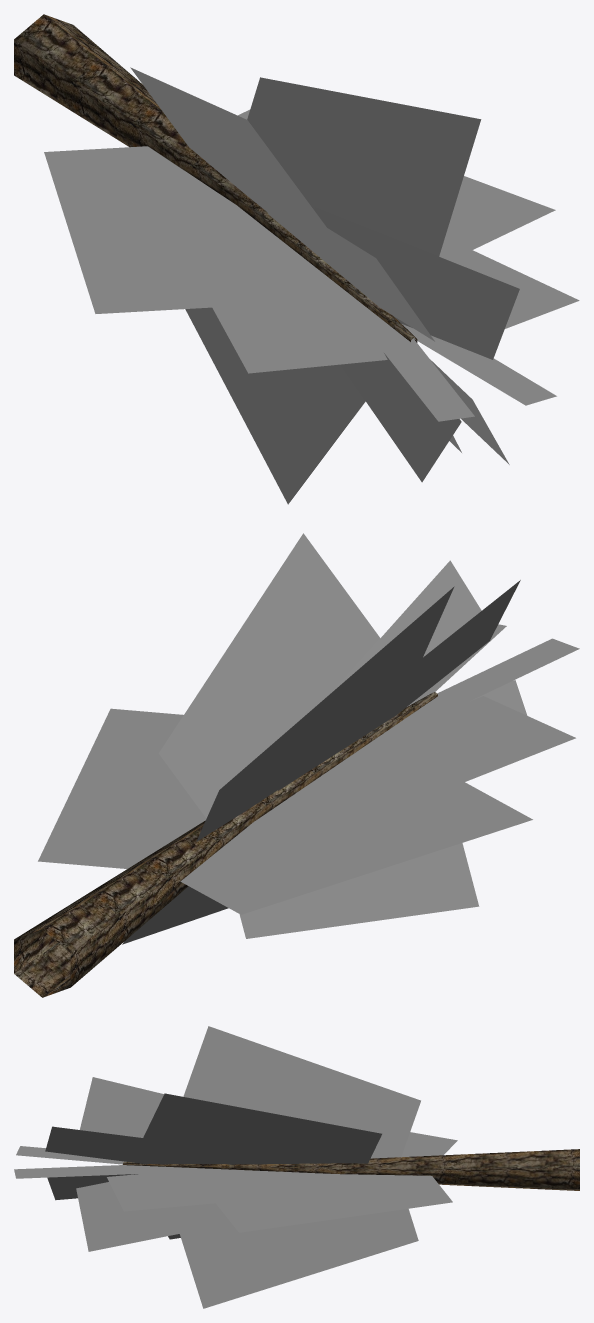
The model's file is great_pine_bb1.obj.
3 views of the same model, one above another, from view 1: azimuth 30°, elevation 25°; view 2: azimuth 150°, elevation 25°; view 3: azimuth 270°, elevation 25° (orthographic). The views are drawn at different scales.
Visible parts, largest first — view 1: plant_pmat3, plant_pmat1; view 2: plant_pmat3, plant_pmat1; view 3: plant_pmat3, plant_pmat1.
Boxes of the visible parts, x1,y1,x2,y2 form: plant_pmat3: (44, 67, 579, 504); plant_pmat1: (14, 14, 417, 342); plant_pmat3: (38, 533, 579, 944); plant_pmat1: (14, 692, 437, 997); plant_pmat3: (14, 1026, 457, 1308); plant_pmat1: (123, 1149, 579, 1190).
Size of the model in its own units: 4.88 by 3.94 by 9.06.
